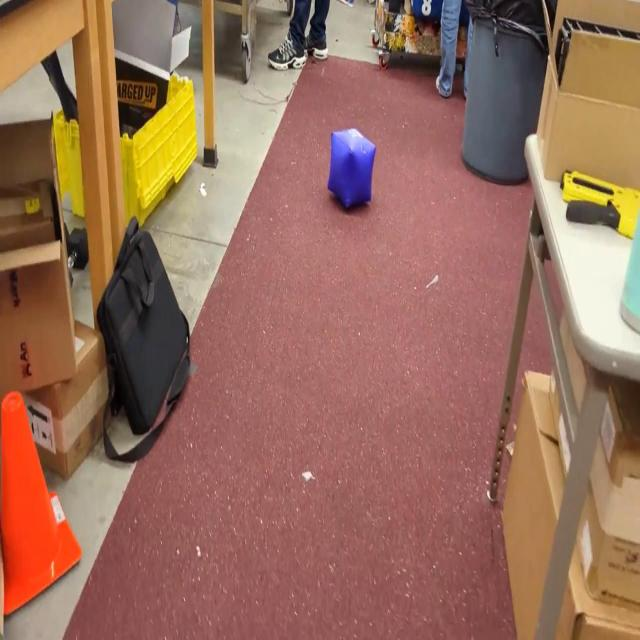frc_cube: (328, 120, 376, 213)
